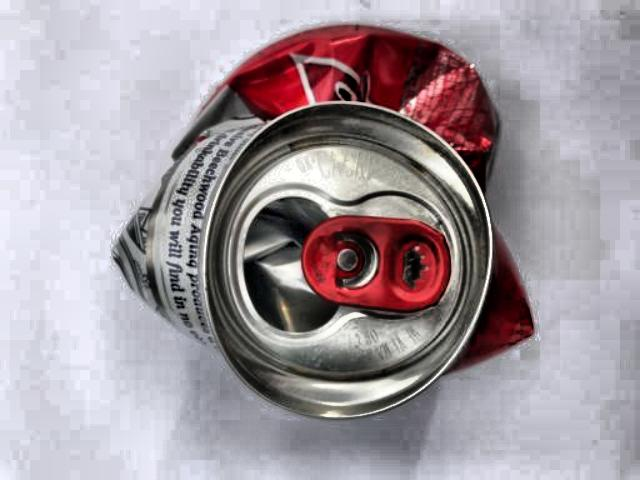Bottles: (112, 13, 557, 435)
